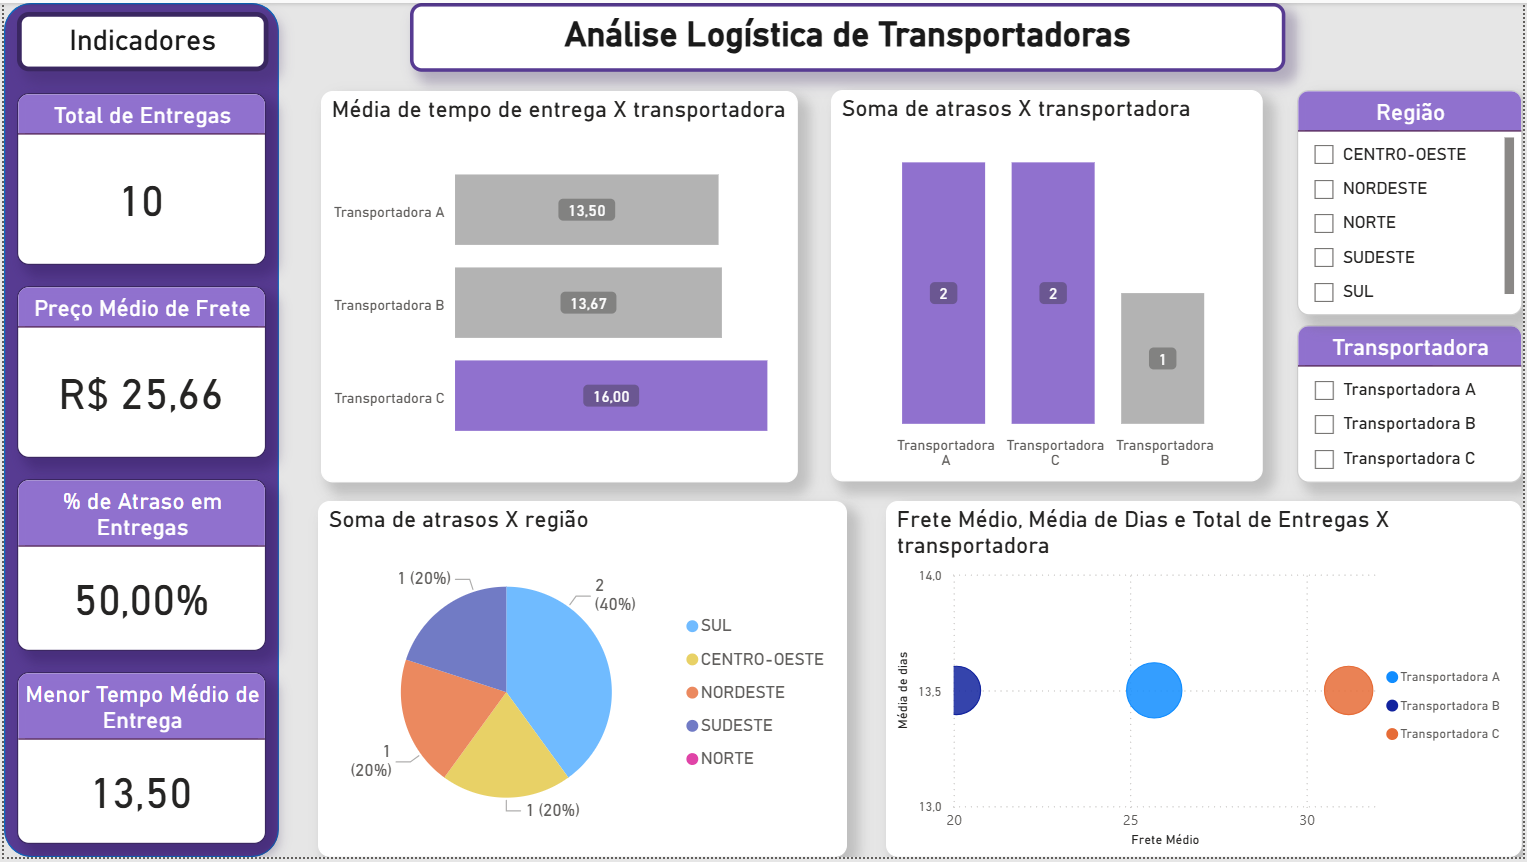

This screenshot's page, from the dashboard's own definition file:
{"tool":"powerbi","page":{"name":"Página 1","canvas":[1280,720],"ordinal":0},"visuals":[{"type":"textbox","box":[342.1,0,737.9,58.2],"z":0},{"type":"shape","box":[0,0,231.7,720.1],"z":1000},{"type":"cardVisual","title":"Total de Entregas","fields":{"Data":["dataset_logistica_tratado.Total Entregas"]},"box":[10.9,75.5,209.9,145.2],"z":2000},{"type":"cardVisual","title":"% de Atraso em Entregas","fields":{"Data":["dataset_logistica_tratado.Taxa Atraso %"]},"box":[10.9,401.1,209.9,145.2],"z":3000},{"type":"cardVisual","title":"Preço Médio de Frete","fields":{"Data":["dataset_logistica_tratado.Frete Médio"]},"box":[10.9,238.3,209.9,145.2],"z":4000},{"type":"barChart","title":"Média de tempo de entrega X transportadora","fields":{"Category":["ranking_transportadora.transportadora"],"Y":["Avg(ranking_transportadora.media_dias)"]},"box":[267.5,73.9,401.8,330.2],"z":5000},{"type":"pieChart","title":"Soma de atrasos X região","fields":{"Y":["Sum(regiões_problemáticas.atrasos)"],"Category":["regiões_problemáticas.regiao"]},"box":[265.1,419.6,445.6,300.4],"z":6000},{"type":"columnChart","title":"Soma de atrasos X transportadora","fields":{"Y":["Sum(taxa_atraso_transportadora.atrasos)"],"Category":["taxa_atraso_transportadora.transportadora"]},"box":[697.6,73.4,364.5,330.4],"z":7000},{"type":"slicer","title":"Transportadora","fields":{"Values":["taxa_atraso_transportadora.transportadora"]},"box":[1089.9,271.3,189.9,132.5],"z":8000},{"type":"slicer","title":"Região","fields":{"Values":["regiões_problemáticas.regiao"]},"box":[1089.9,73.4,189.9,189.9],"z":9000},{"type":"cardVisual","title":"Menor Tempo Médio de Entrega","fields":{"Data":["dataset_logistica_tratado.Menor Media Dias"]},"box":[10.9,563.9,209.9,145.2],"z":10000},{"type":"textbox","box":[10.9,8,211.8,50],"z":11000},{"type":"scatterChart","title":"Frete Médio, Média de Dias e Total de Entregas X transportadora","fields":{"X":["dataset_logistica_tratado.Frete Médio"],"Y":["dataset_logistica_tratado.Menor Media Dias"],"Series":["dataset_logistica_tratado.transportadora"],"Size":["dataset_logistica_tratado.Total Entregas"]},"box":[743.9,419.7,536.1,300.4],"z":12000}]}

Visuals, with their boxes in screenshot pixels (x1, y1, x2, y2), scaled from the page's 1280x720 canvas onto the 1527x862 screenshot:
textbox: (408, 0, 1288, 70)
shape: (0, 0, 276, 861)
"Total de Entregas" cardVisual: (13, 90, 263, 264)
"% de Atraso em Entregas" cardVisual: (13, 480, 263, 654)
"Preço Médio de Frete" cardVisual: (13, 285, 263, 459)
"Média de tempo de entrega X transportadora" barChart: (319, 88, 798, 484)
"Soma de atrasos X região" pieChart: (316, 502, 848, 861)
"Soma de atrasos X transportadora" columnChart: (832, 88, 1267, 483)
"Transportadora" slicer: (1300, 325, 1526, 483)
"Região" slicer: (1300, 88, 1526, 315)
"Menor Tempo Médio de Entrega" cardVisual: (13, 675, 263, 849)
textbox: (13, 10, 266, 69)
"Frete Médio, Média de Dias e Total de Entregas X transportadora" scatterChart: (887, 502, 1526, 861)
